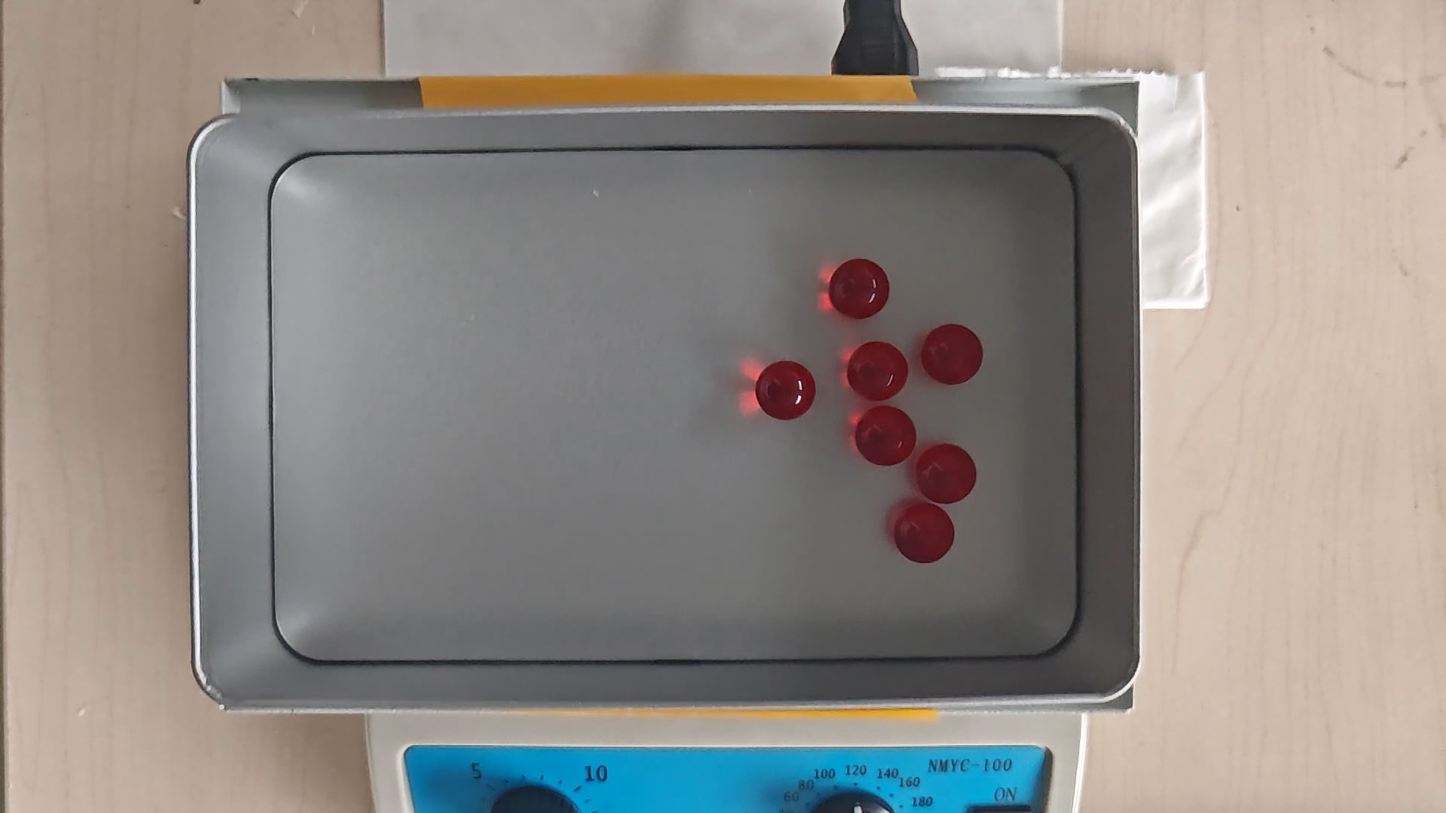ball: (920, 322, 984, 386), (912, 442, 975, 505), (846, 340, 910, 402), (892, 501, 956, 563), (754, 360, 816, 421), (854, 405, 915, 467), (830, 257, 890, 318)
container: (269, 148, 1079, 656)
